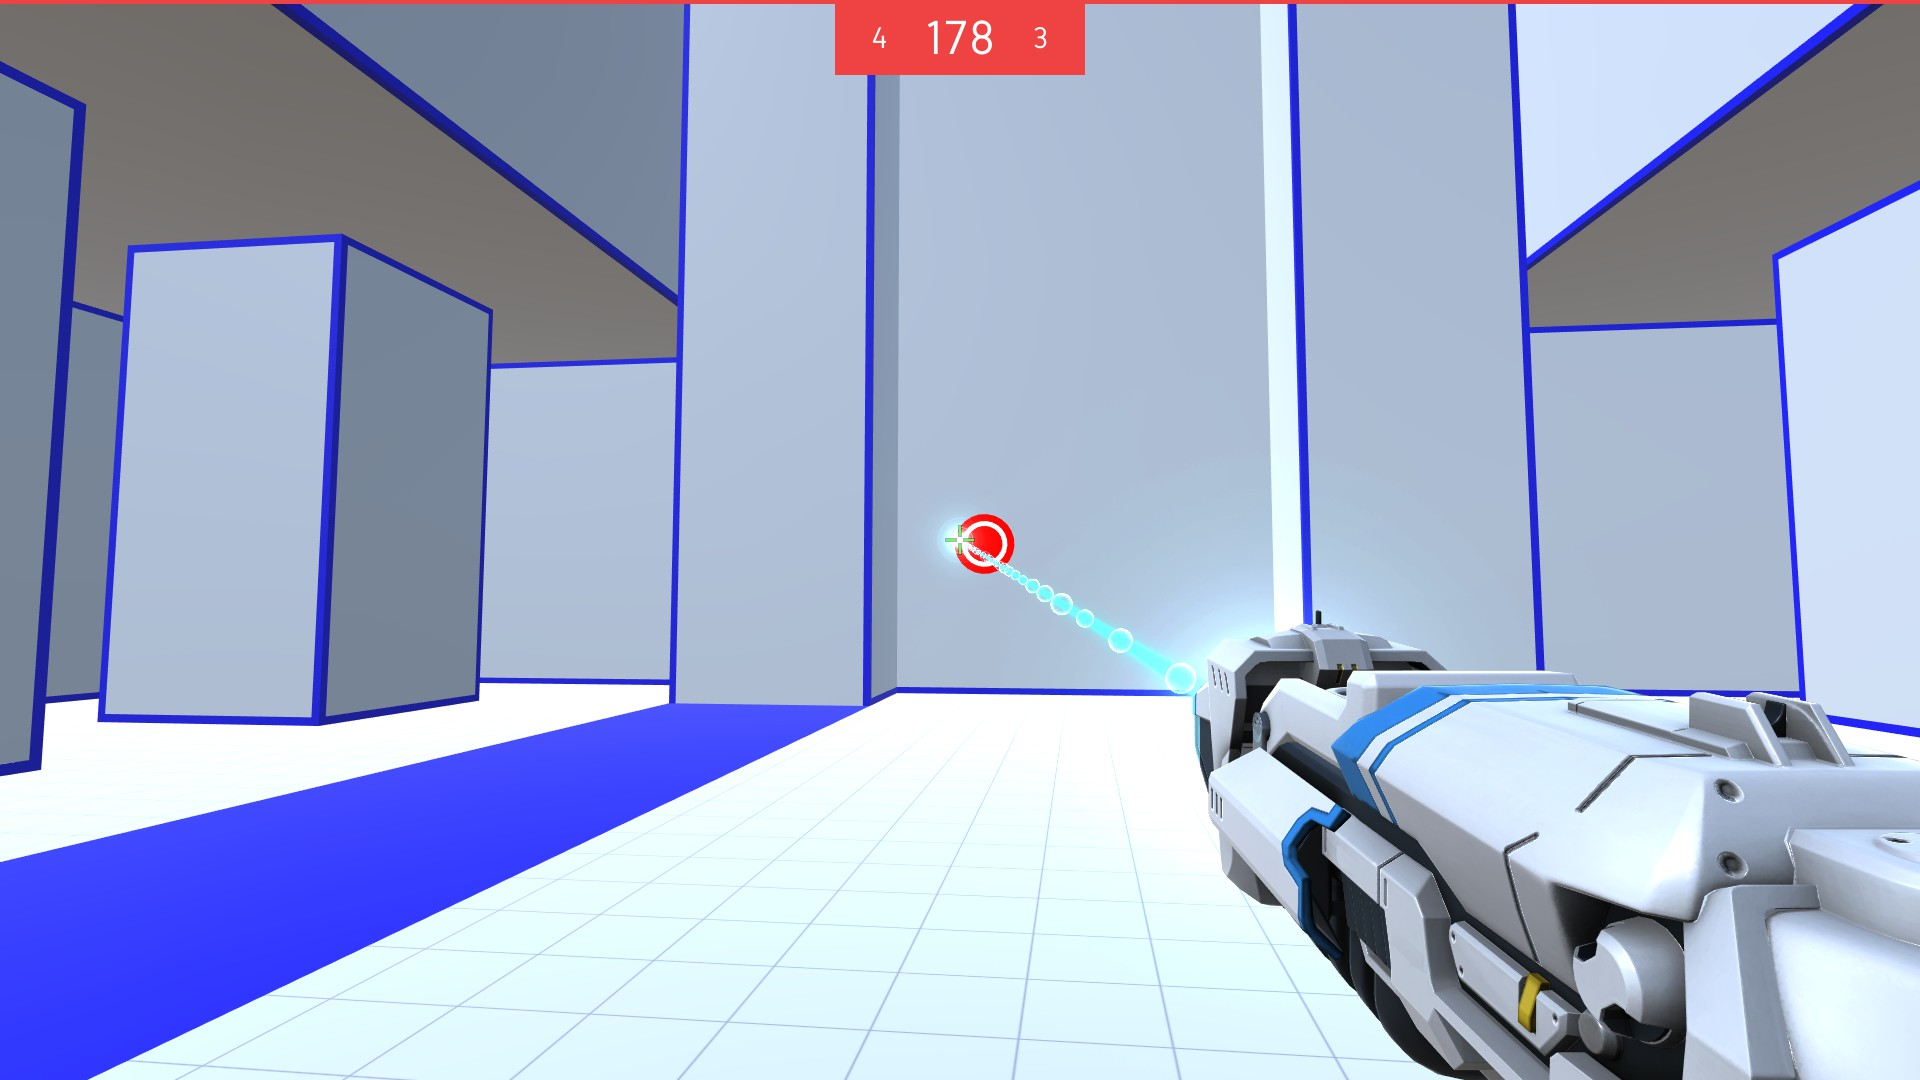target: (953, 514, 1015, 574)
